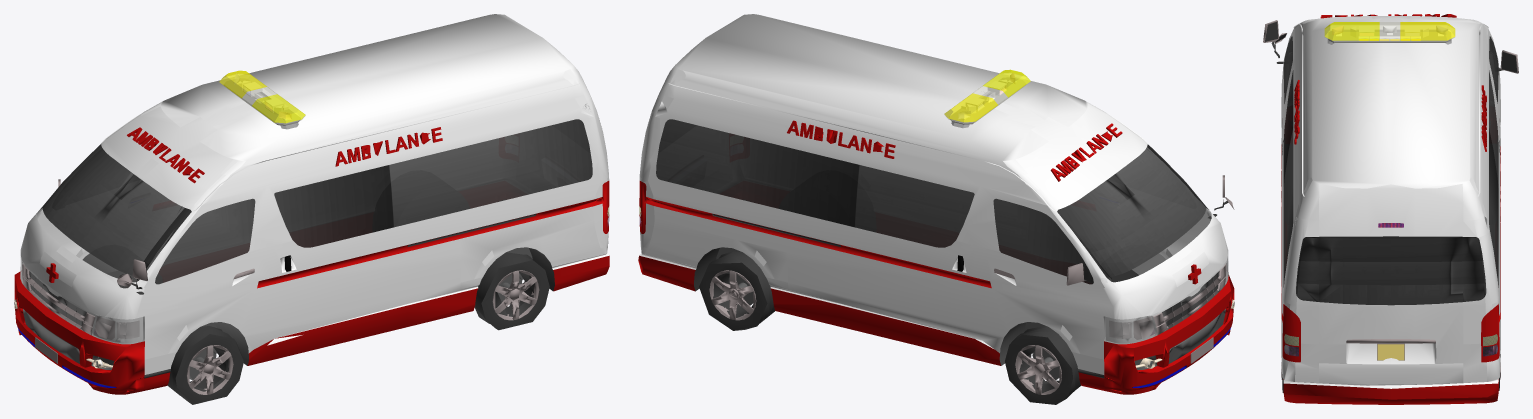
The model's file is ambulan-v1.glb.
3 renders of one model, left to right at view 1: azimuth 30°, elevation 25°; view 2: azimuth 150°, elevation 25°; view 3: azimuth 270°, elevation 25°, orthographic. The views are drawn at different scales.
Parts seen in each view (by area): view 1: Object_2, Object_9, Object_3, Object_7; view 2: Object_2, Object_9, Object_3, Object_7; view 3: Object_2, Object_9, Object_3, Object_7, Object_10, Object_8.
Part boxes in pixels (box(x1,y1,x2,y2)): Object_2: box(14, 14, 609, 394); Object_9: box(42, 119, 592, 284); Object_3: box(14, 73, 609, 404); Object_7: box(20, 70, 305, 344); Object_2: box(638, 14, 1234, 394); Object_9: box(656, 119, 1206, 284); Object_3: box(639, 73, 1234, 404); Object_7: box(944, 69, 1228, 344); Object_2: box(1263, 14, 1518, 404); Object_9: box(1283, 36, 1498, 305); Object_3: box(1265, 22, 1517, 392); Object_7: box(1324, 22, 1455, 42); Object_10: box(1284, 344, 1497, 356); Object_8: box(1284, 334, 1497, 345).
Bounding box in the file's own units: 6.57 × 3 × 2.68.
11 materials, 11 textured.
